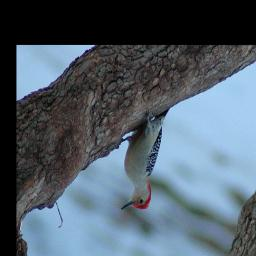Woodpecker: (119, 106, 171, 212)
